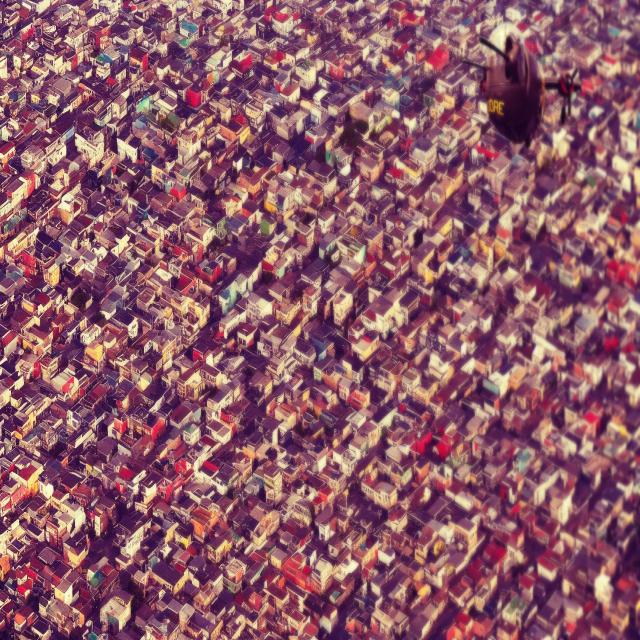airplane: (462, 34, 580, 153)
